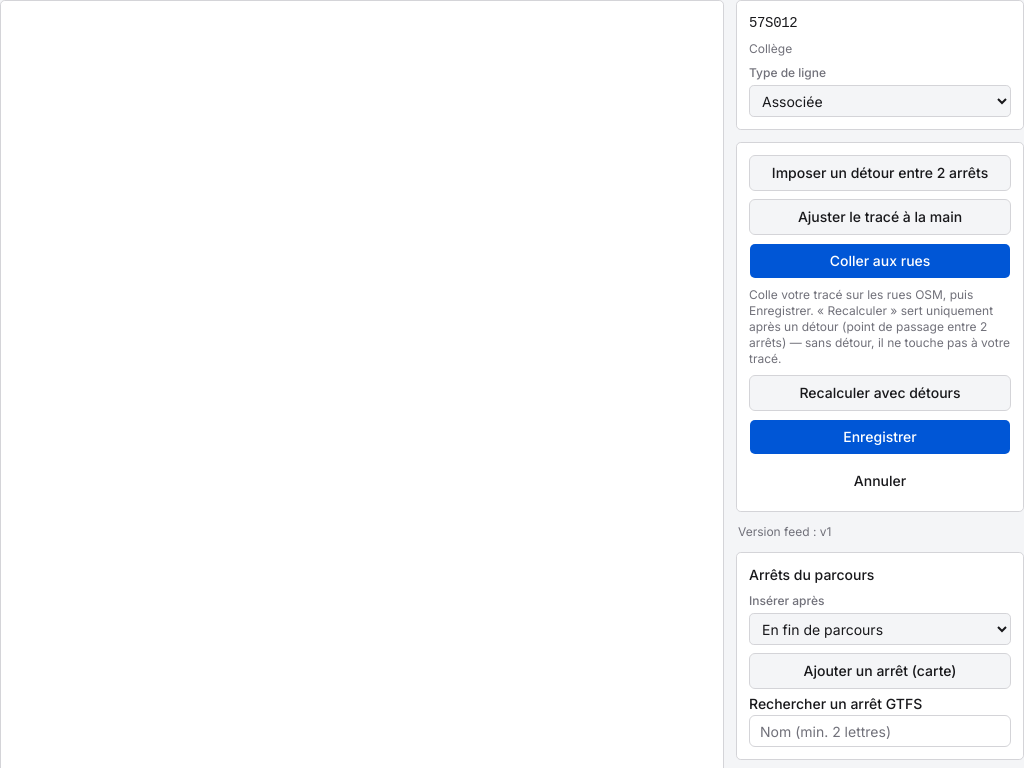
Test: MapEditor — brouillon local › permet d’activer l’ajustement manuel du tracé
The width and height of the screenshot is (1024, 768).
Click the button "Ajuster le tracé à la main": (880, 217) left=749, top=199, right=1011, bottom=235
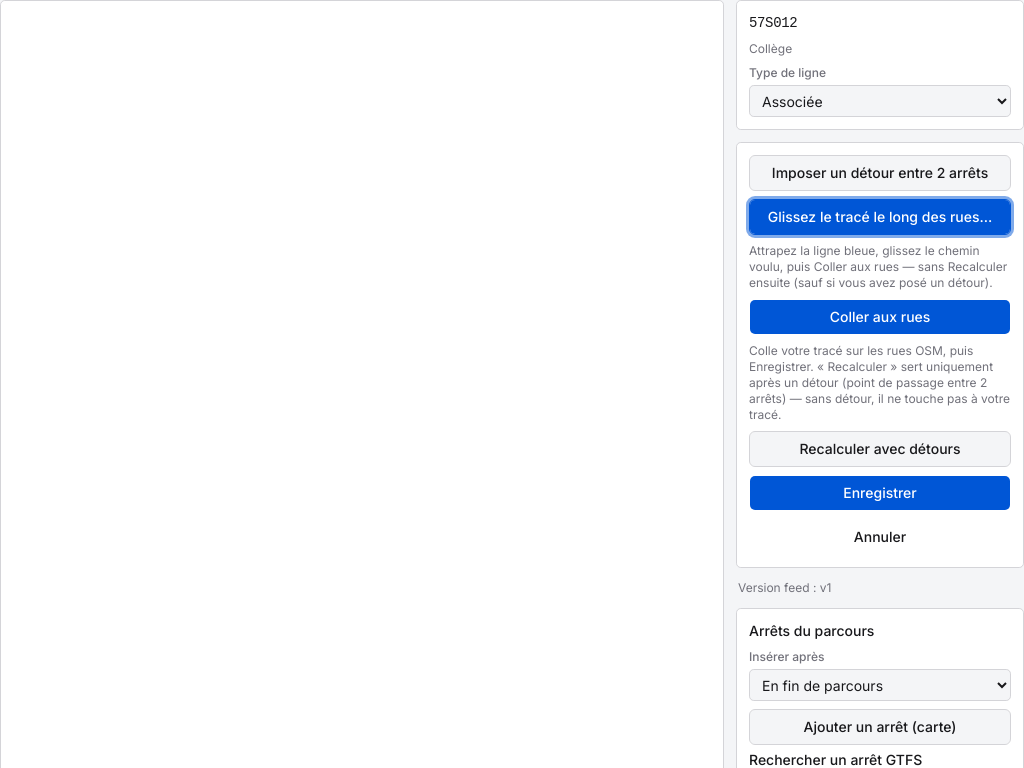
Check: the text "Attrapez la ligne bleue" is shown, box left=749, top=243, right=1007, bottom=290
